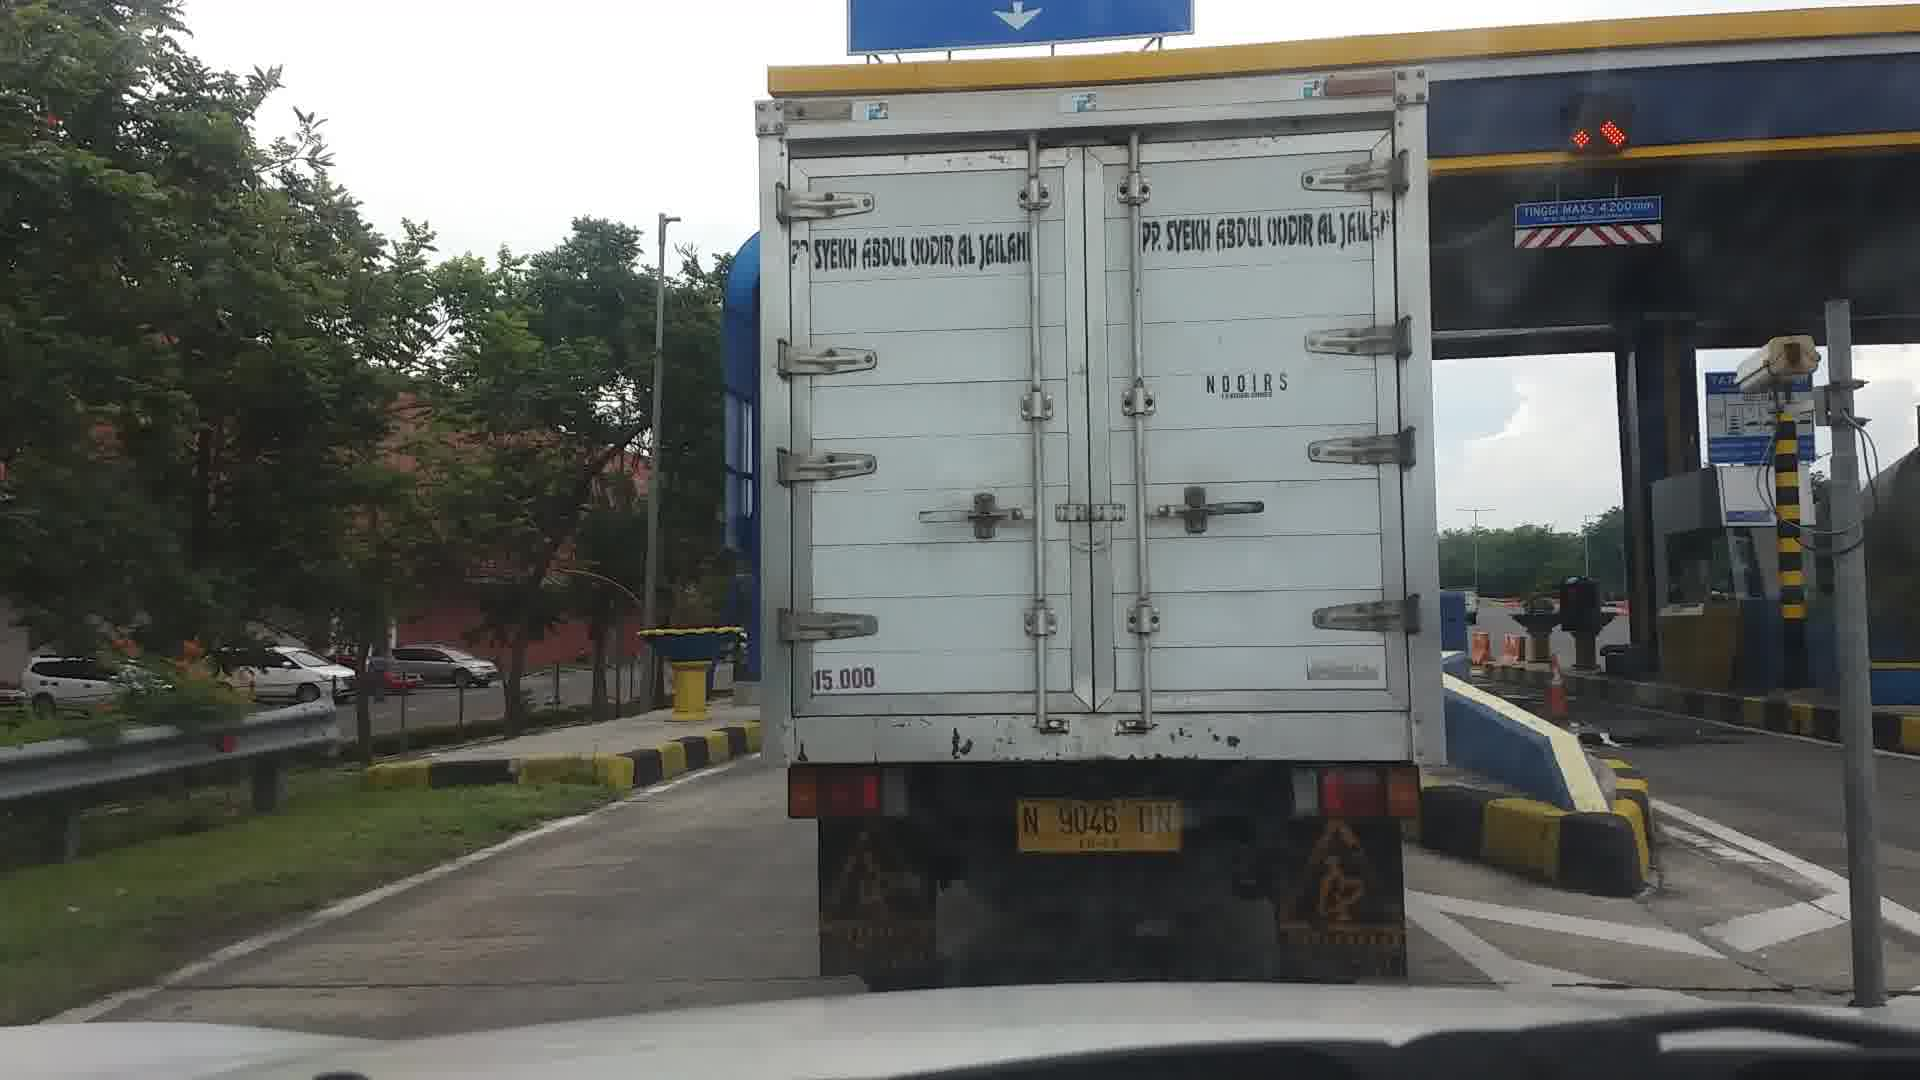plate_positive: (1015, 796, 1182, 852)
